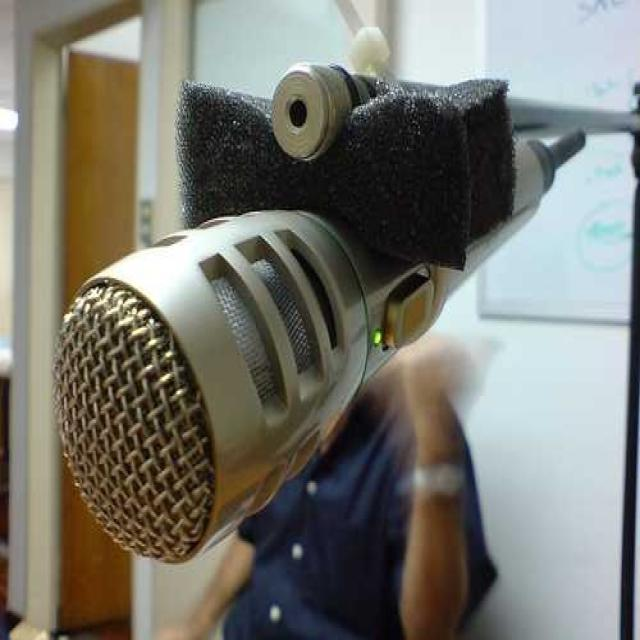microphone: (59, 86, 563, 564)
